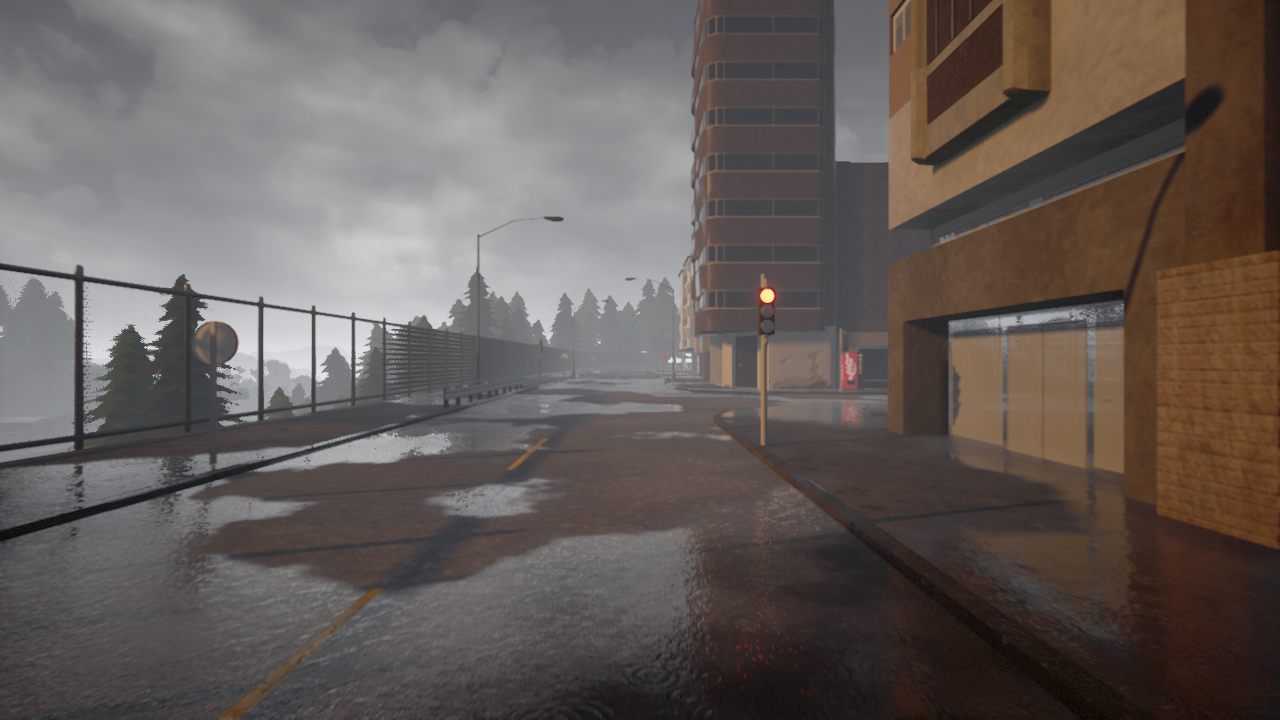red: (757, 288, 778, 336)
